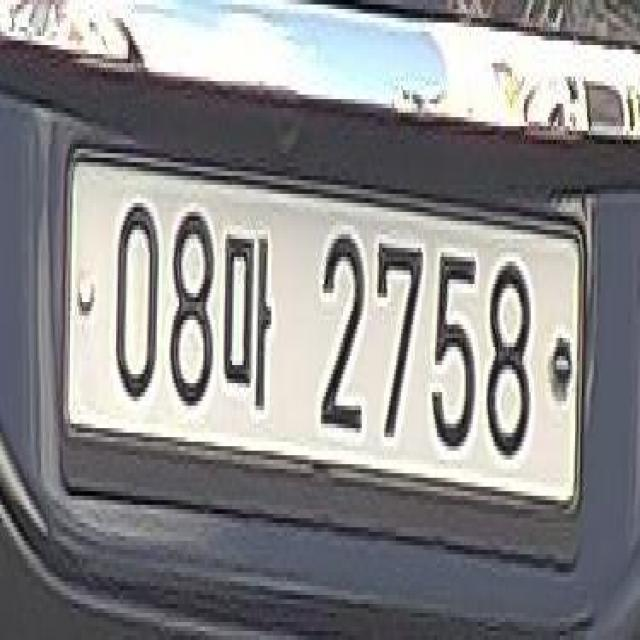illegal_plate: (66, 148, 588, 536)
